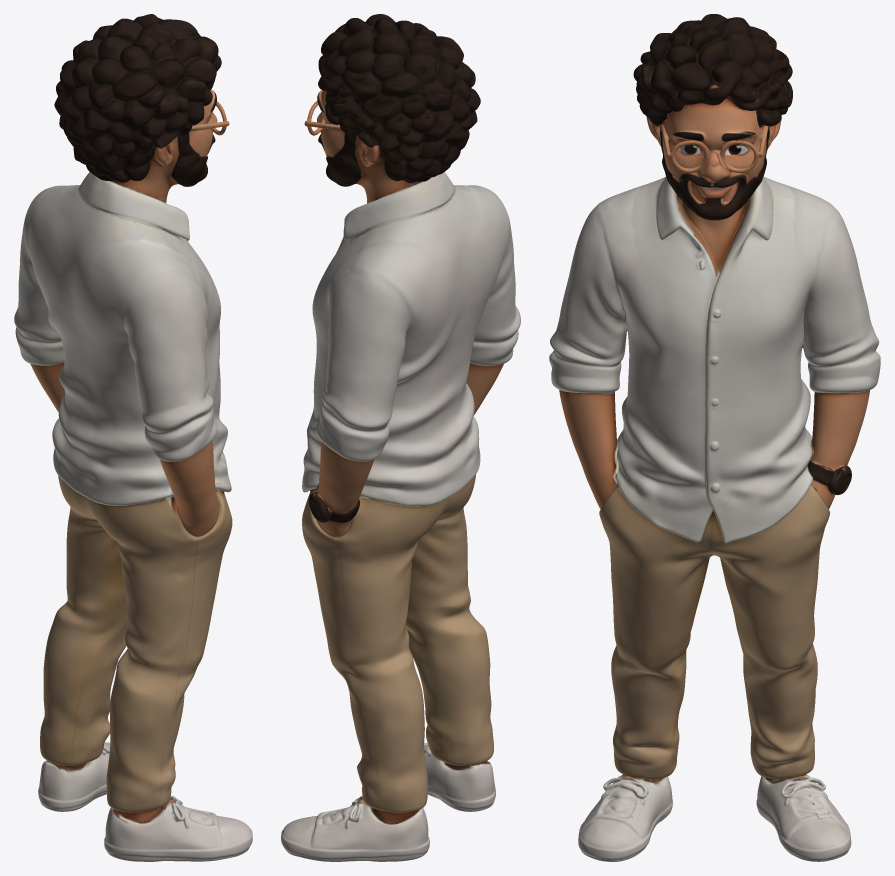
File: mini_model.glb
The picture shows the model from 3 angles, left to right: view 1: azimuth 30°, elevation 25°; view 2: azimuth 150°, elevation 25°; view 3: azimuth 270°, elevation 25°; orthographic projection. The views are drawn at different scales.
Visible parts, largest first — view 1: tripo_node_c7013293-1fc6-4664-a0e6-887683019319; view 2: tripo_node_c7013293-1fc6-4664-a0e6-887683019319; view 3: tripo_node_c7013293-1fc6-4664-a0e6-887683019319.
Part boxes in pixels (bbox=[...]): tripo_node_c7013293-1fc6-4664-a0e6-887683019319: bbox=[14, 14, 252, 861]; tripo_node_c7013293-1fc6-4664-a0e6-887683019319: bbox=[281, 14, 520, 861]; tripo_node_c7013293-1fc6-4664-a0e6-887683019319: bbox=[549, 14, 880, 861].
Bounding box in the file's own units: 0.2021 × 1 × 0.3693.
1 material, 1 textured.
